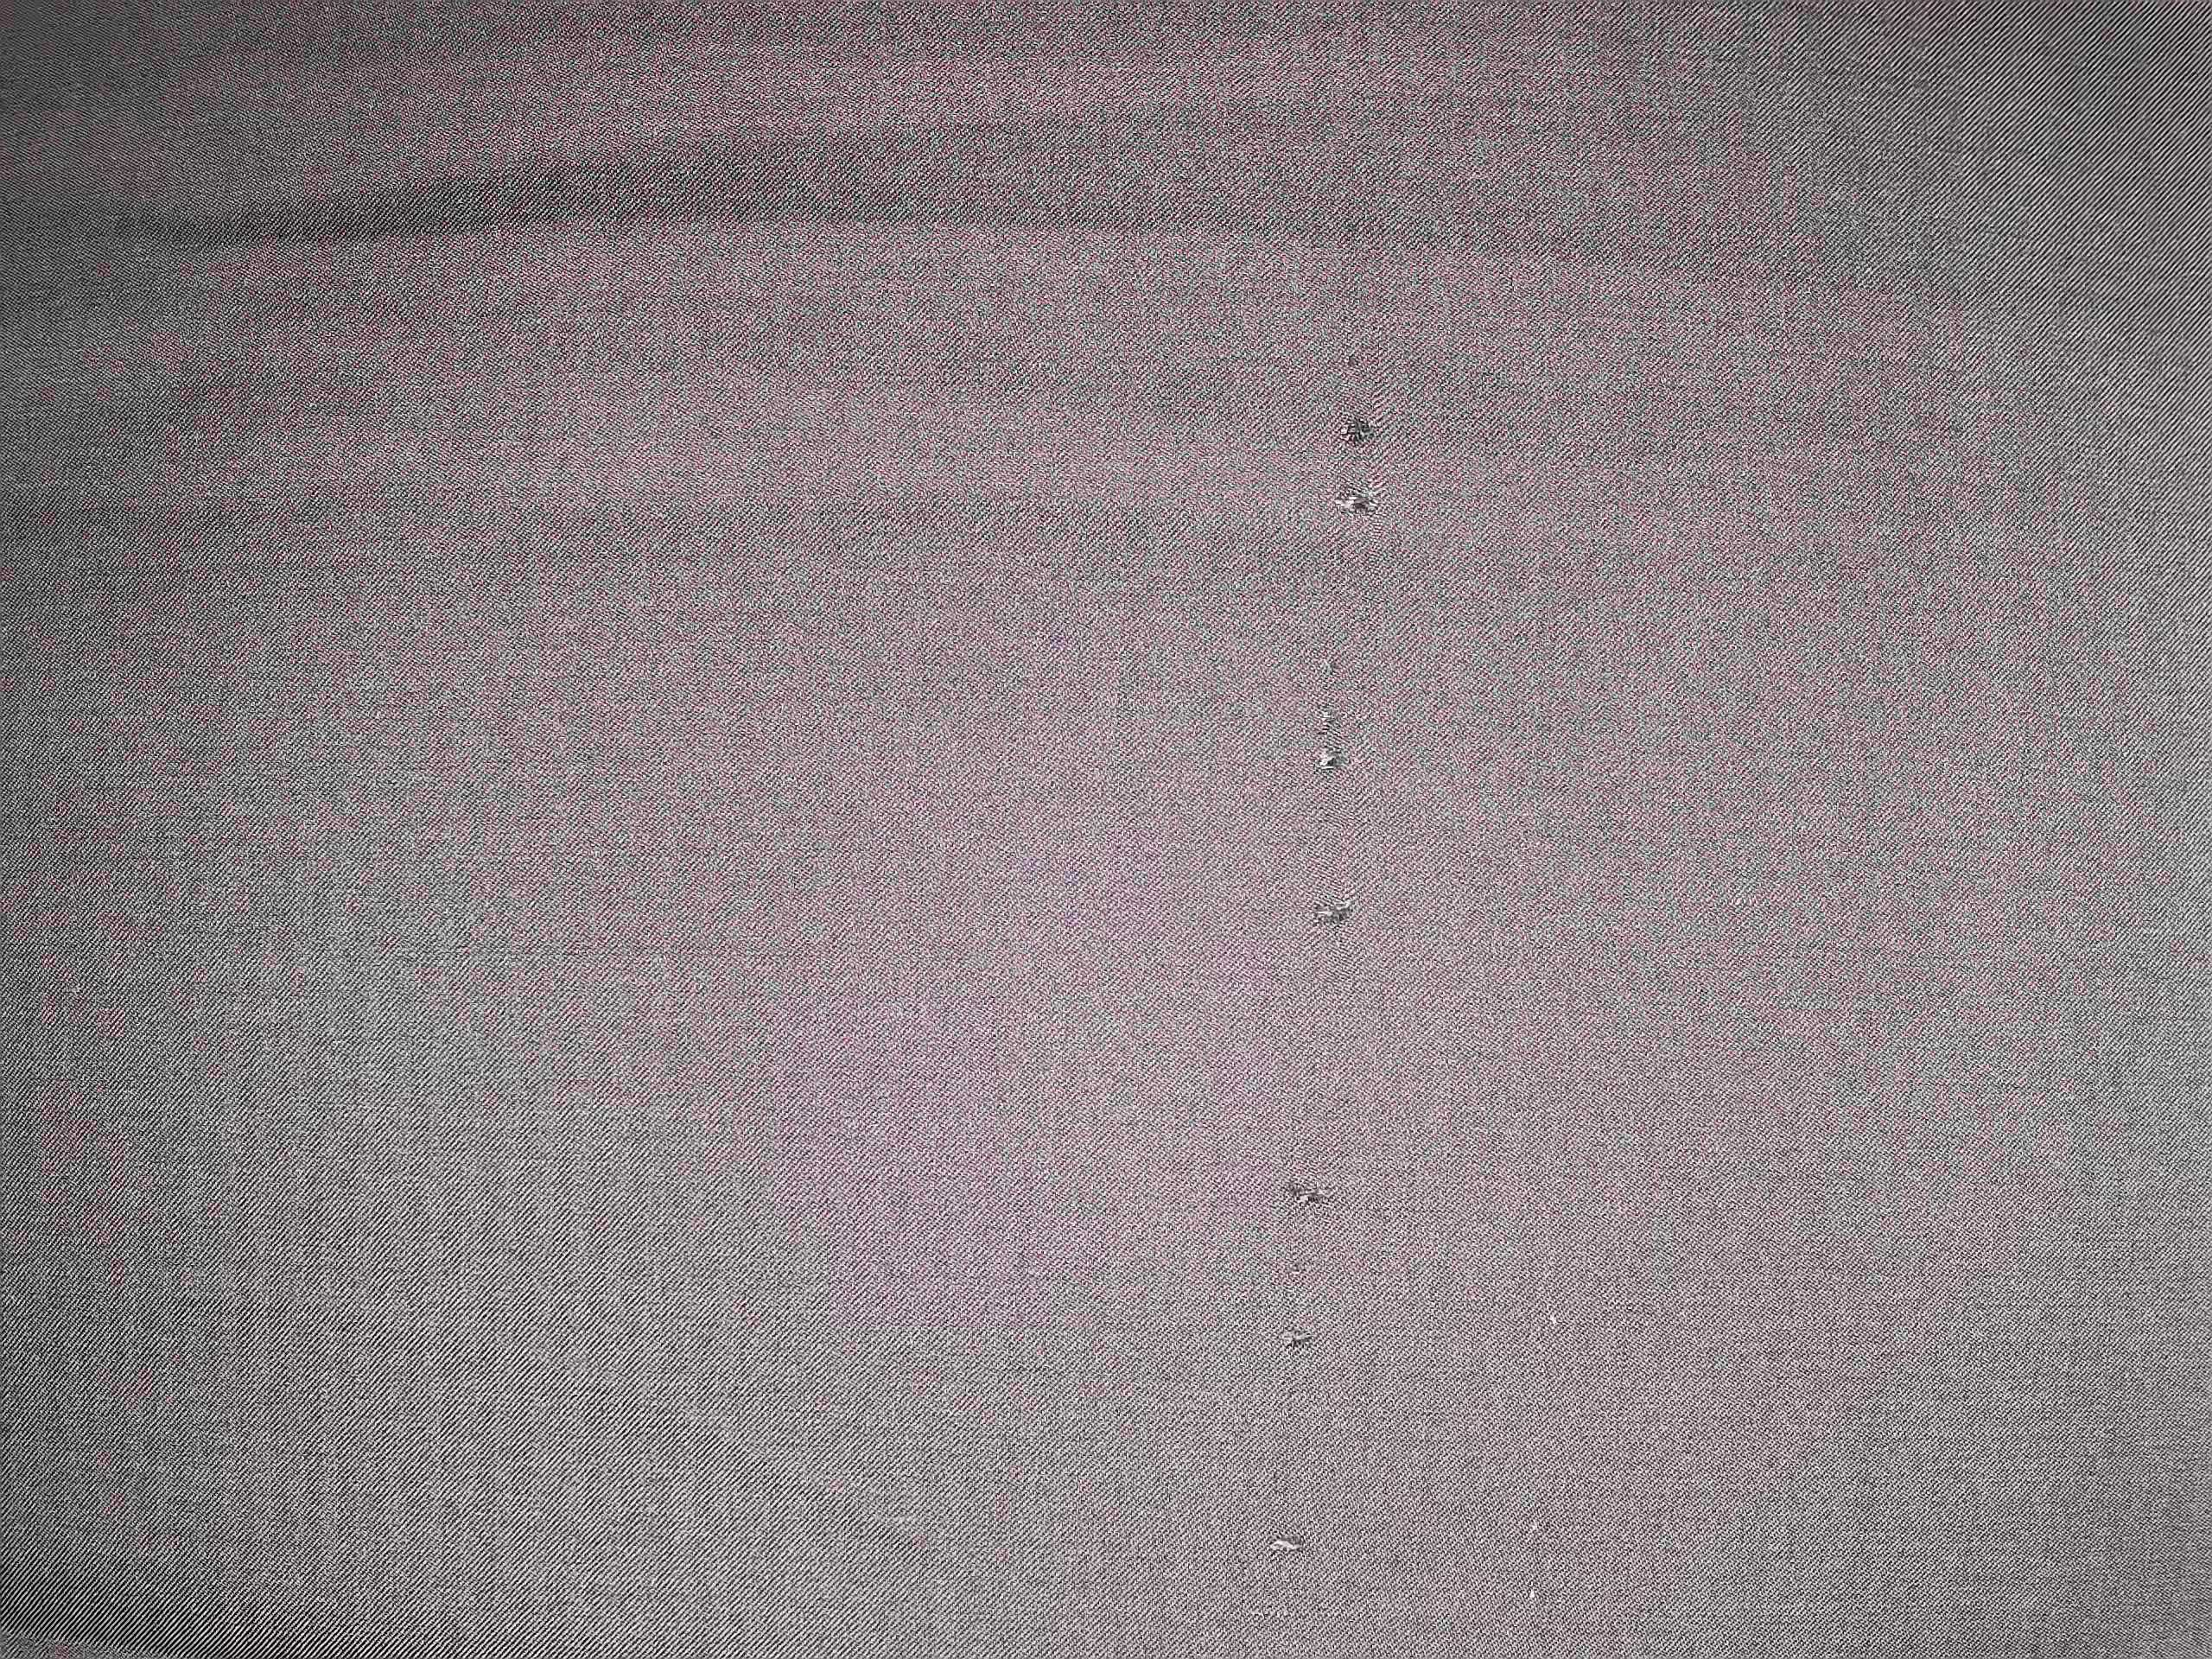puncture-hole: (1251, 230, 1420, 1589)
